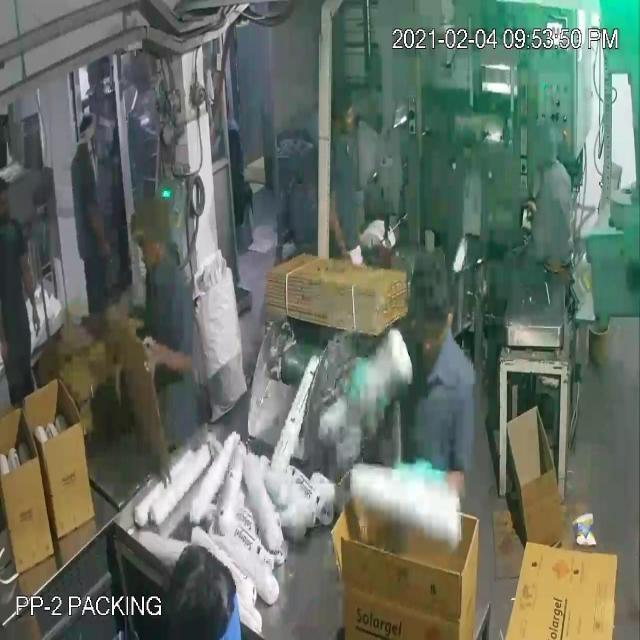No_Gloves: (35, 70, 159, 354)
